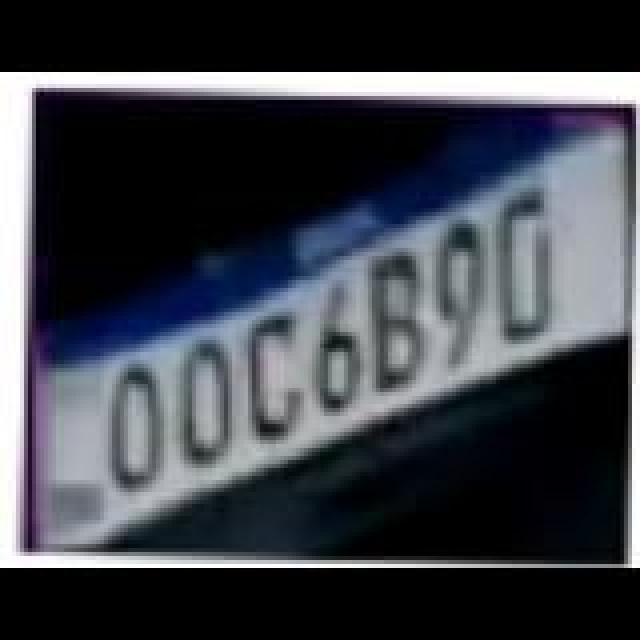6: (298, 282, 382, 422)
9: (418, 222, 502, 370)
B: (360, 250, 448, 398)
C: (230, 312, 322, 448)
D: (480, 194, 568, 350)
O: (164, 340, 252, 476), (96, 360, 184, 496)
